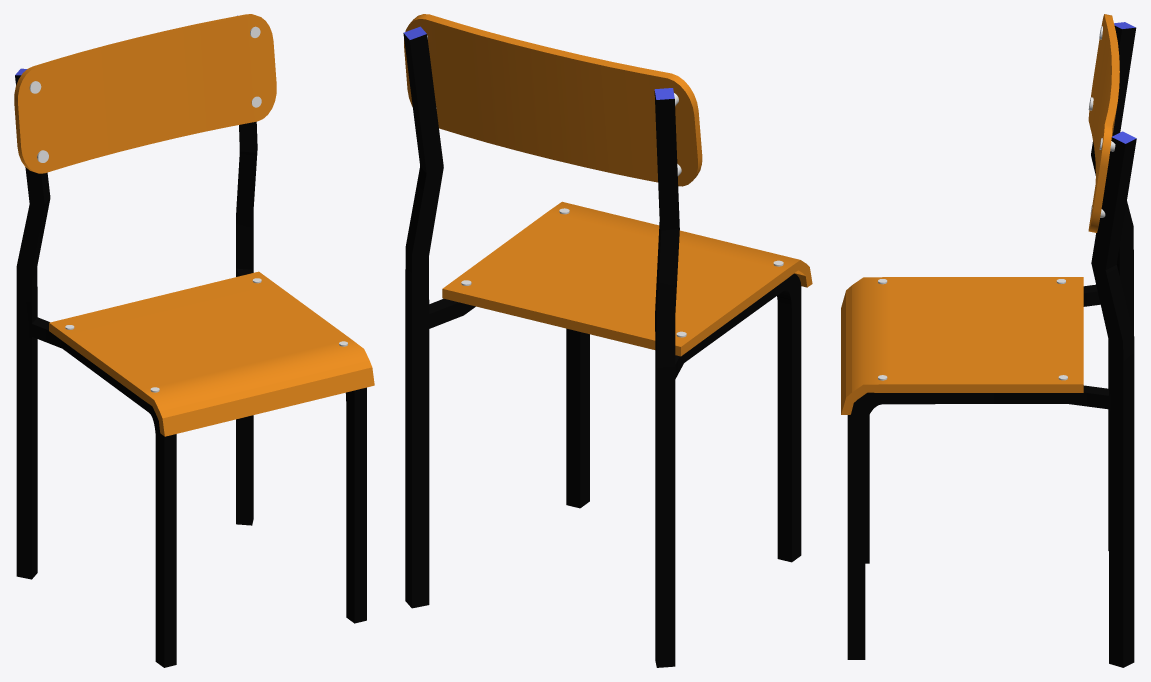
File: krzesuov2.fbx
The picture shows the model from 3 angles, left to right: view 1: azimuth 30°, elevation 25°; view 2: azimuth 150°, elevation 25°; view 3: azimuth 270°, elevation 25°; orthographic projection. The views are drawn at different scales.
Visible parts, largest first — view 1: Kostka.001; view 2: Kostka.001; view 3: Kostka.001.
Boxes of the visible parts, box(x1,y1,x2,y2) form: Kostka.001: box(14, 14, 374, 667); Kostka.001: box(403, 14, 812, 667); Kostka.001: box(841, 14, 1136, 667).
Bounding box in the file's own units: 47.26 × 90.79 × 45.2.
